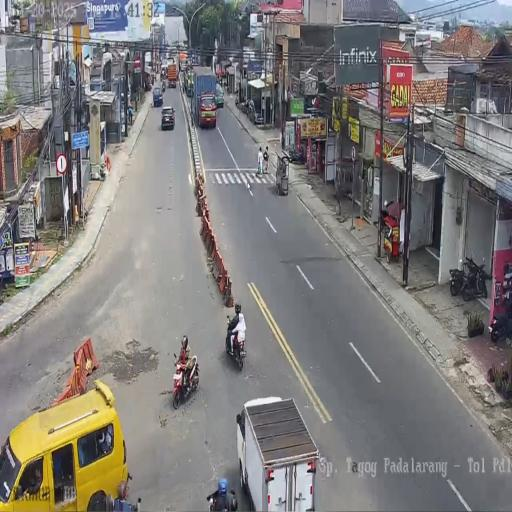car: (0, 379, 134, 510), (161, 106, 175, 130), (215, 85, 224, 108), (153, 87, 163, 107)
motorcycle: (172, 348, 199, 408), (461, 254, 489, 302), (225, 316, 246, 372), (490, 292, 512, 344), (282, 144, 304, 165), (240, 97, 250, 114), (162, 80, 166, 93), (235, 94, 238, 107)
truck: (240, 396, 319, 508), (191, 66, 217, 128), (184, 68, 194, 96), (167, 62, 177, 88), (144, 52, 152, 74), (179, 52, 187, 72), (160, 61, 168, 78)
